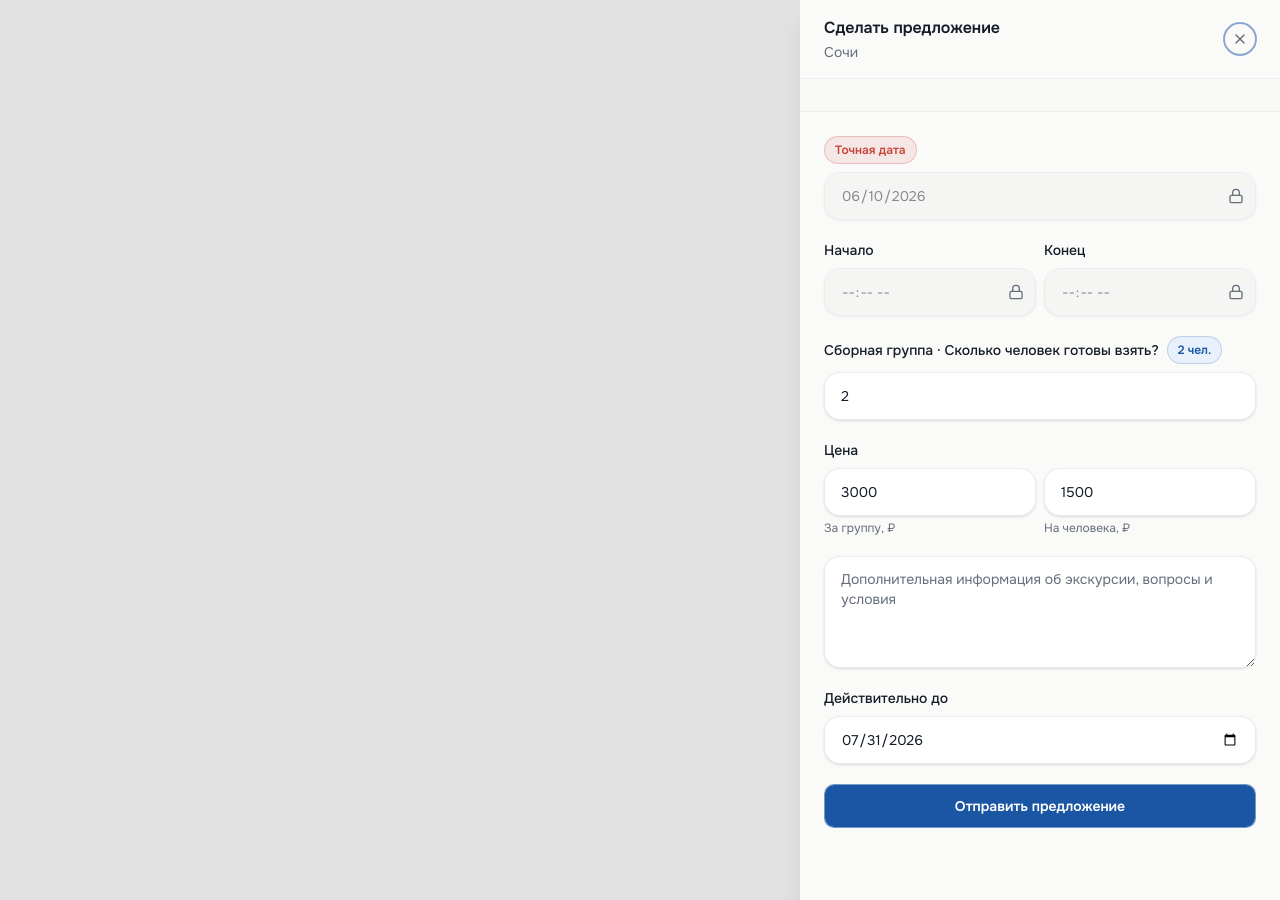
BidFormPanel — verification gate › does not submit an offer when the guide is not approved
The image size is (1280, 900).
Type "Готов провести маршрут по вашему запросу." into the text box with placeholder "Дополнительная информация об экскурсии, вопросы и условия" at (1040, 612), box 824,556 -> 1256,668
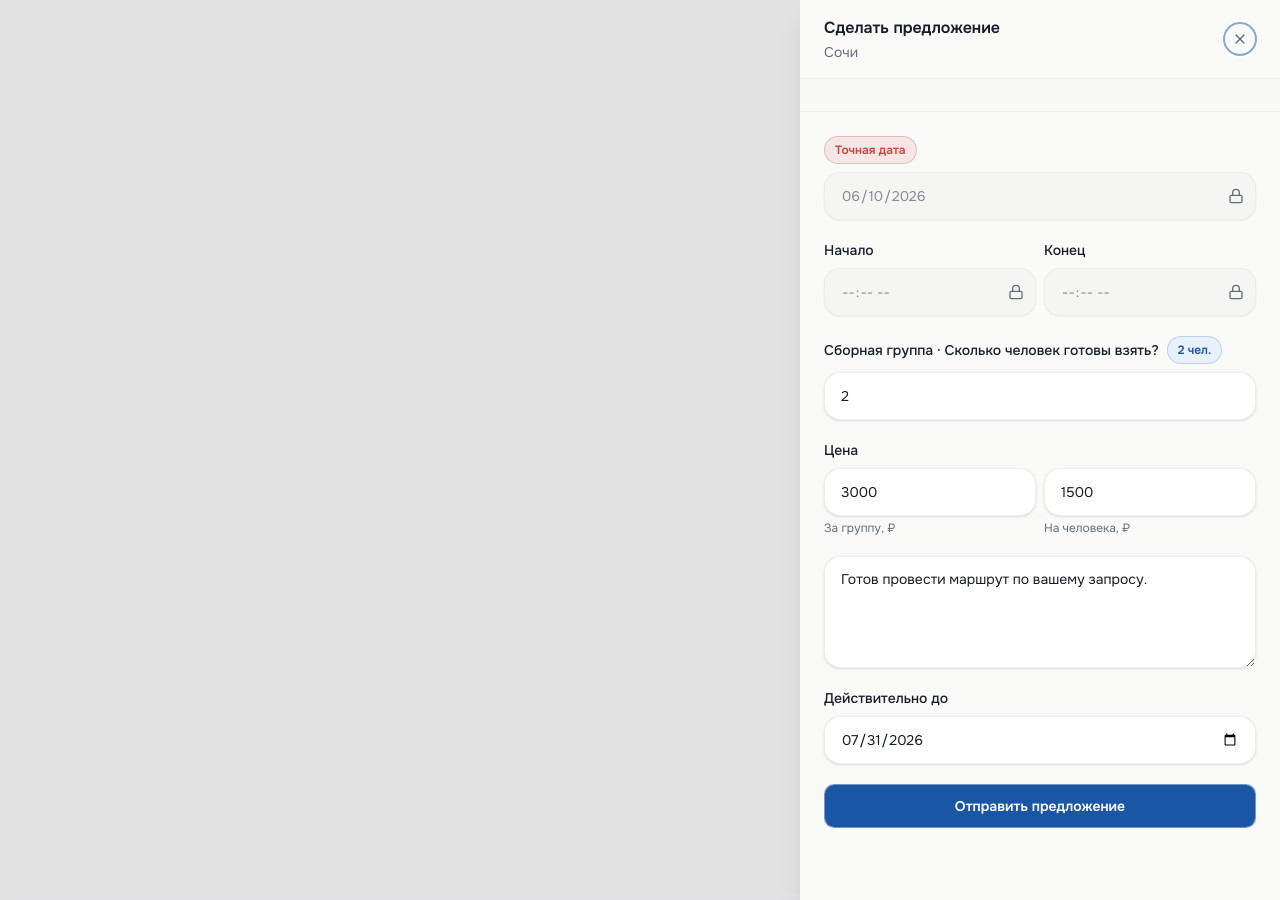
Click the button "Отправить предложение" at (1040, 806), box 824,784 -> 1256,828
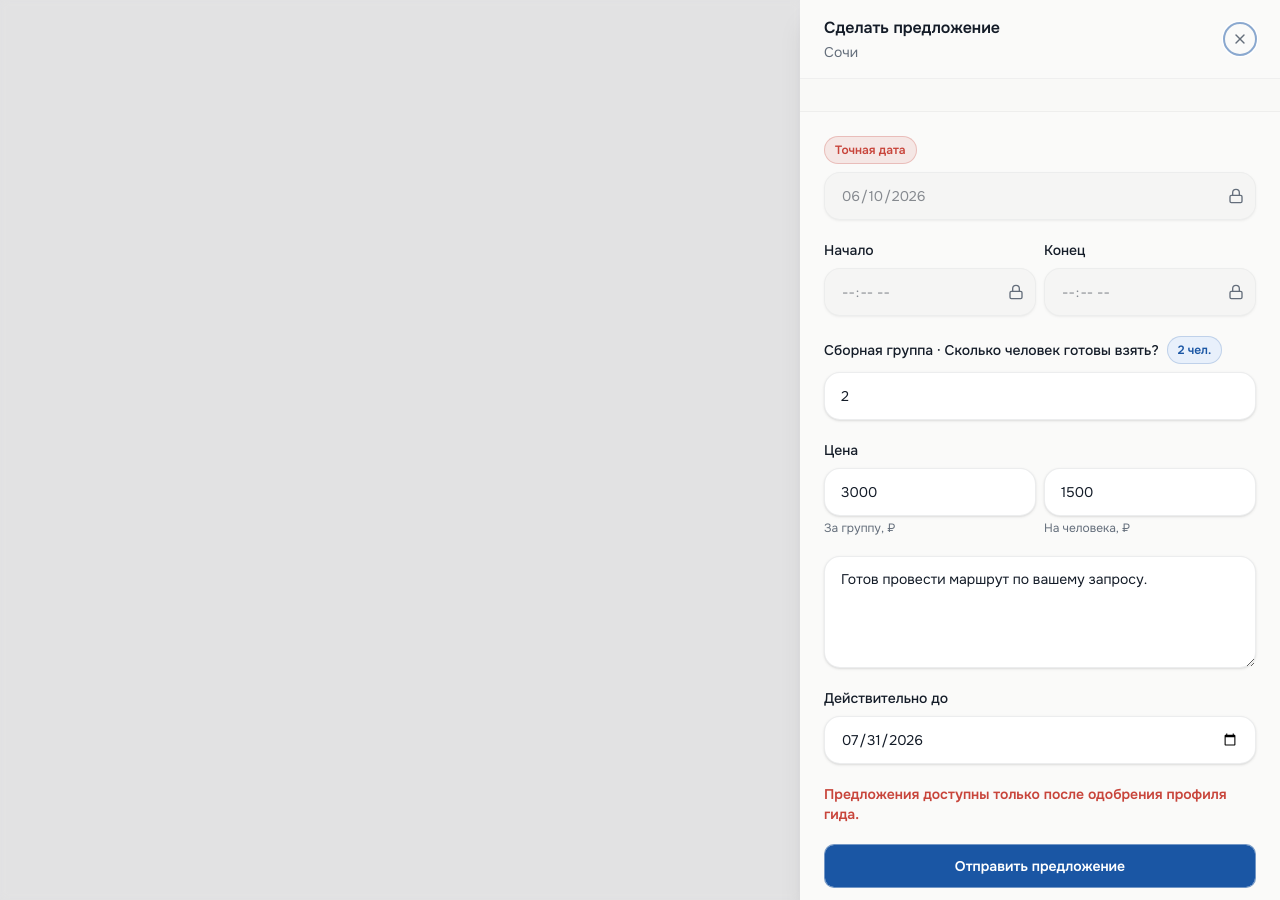
Result: the text "Предложения доступны только после одобрения профиля гида." is shown at 824,784 -> 1256,824
